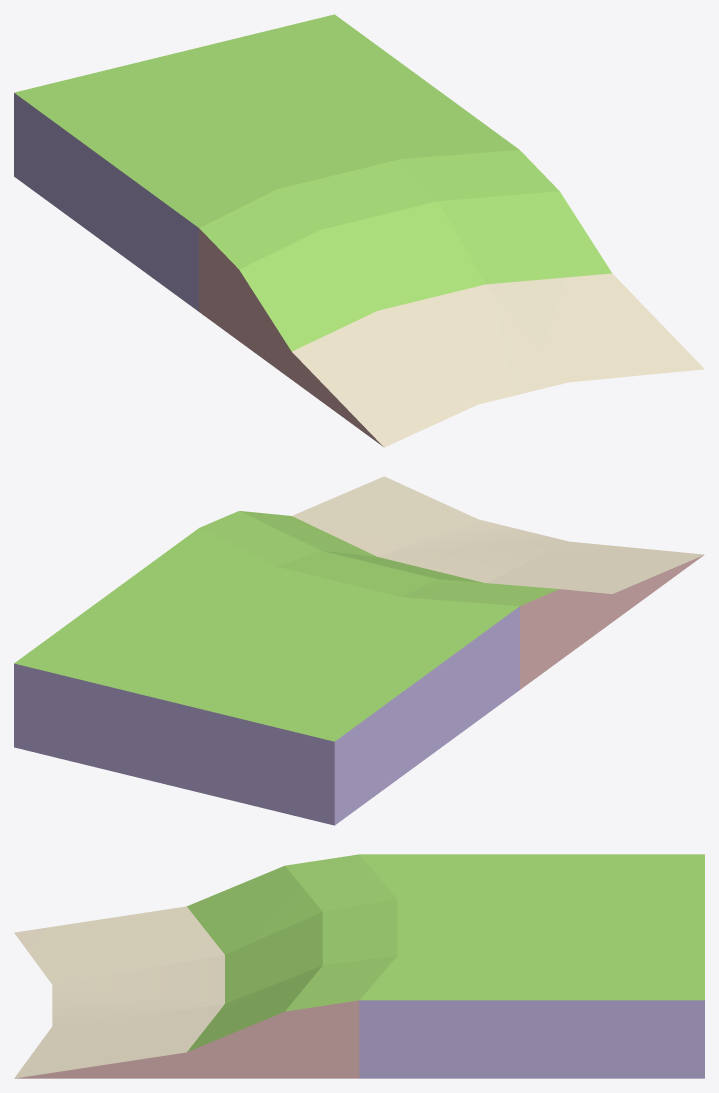
File: Path_Terrain_Deformed_Straight_Concave_1x2.glb
The picture shows the model from 3 angles, top to bottom: view 1: azimuth 30°, elevation 25°; view 2: azimuth 150°, elevation 25°; view 3: azimuth 270°, elevation 25°; orthographic projection. The views are drawn at different scales.
Parts seen in each view (by area): view 1: Path_Terrain_Deformed_Straight_Concave_1x2; view 2: Path_Terrain_Deformed_Straight_Concave_1x2; view 3: Path_Terrain_Deformed_Straight_Concave_1x2.
Boxes of the visible parts, x1,y1,x2,y2 form: Path_Terrain_Deformed_Straight_Concave_1x2: [14, 14, 704, 447]; Path_Terrain_Deformed_Straight_Concave_1x2: [14, 476, 704, 825]; Path_Terrain_Deformed_Straight_Concave_1x2: [14, 854, 704, 1078].
Size of the model in its own units: 100 by 25 by 200.
